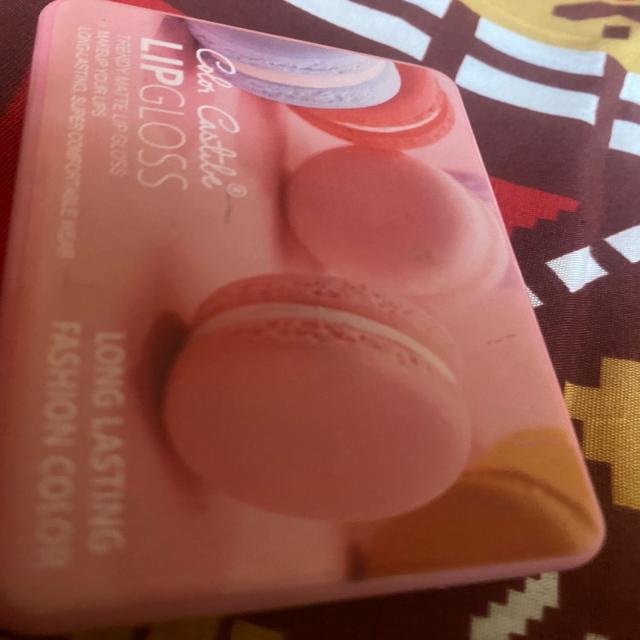makeup: (0, 0, 617, 634)
